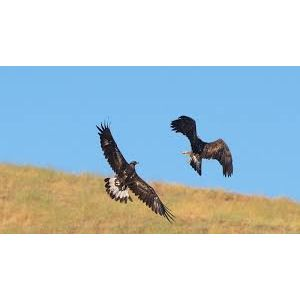hawk: (88, 117, 178, 224), (169, 108, 240, 180)
